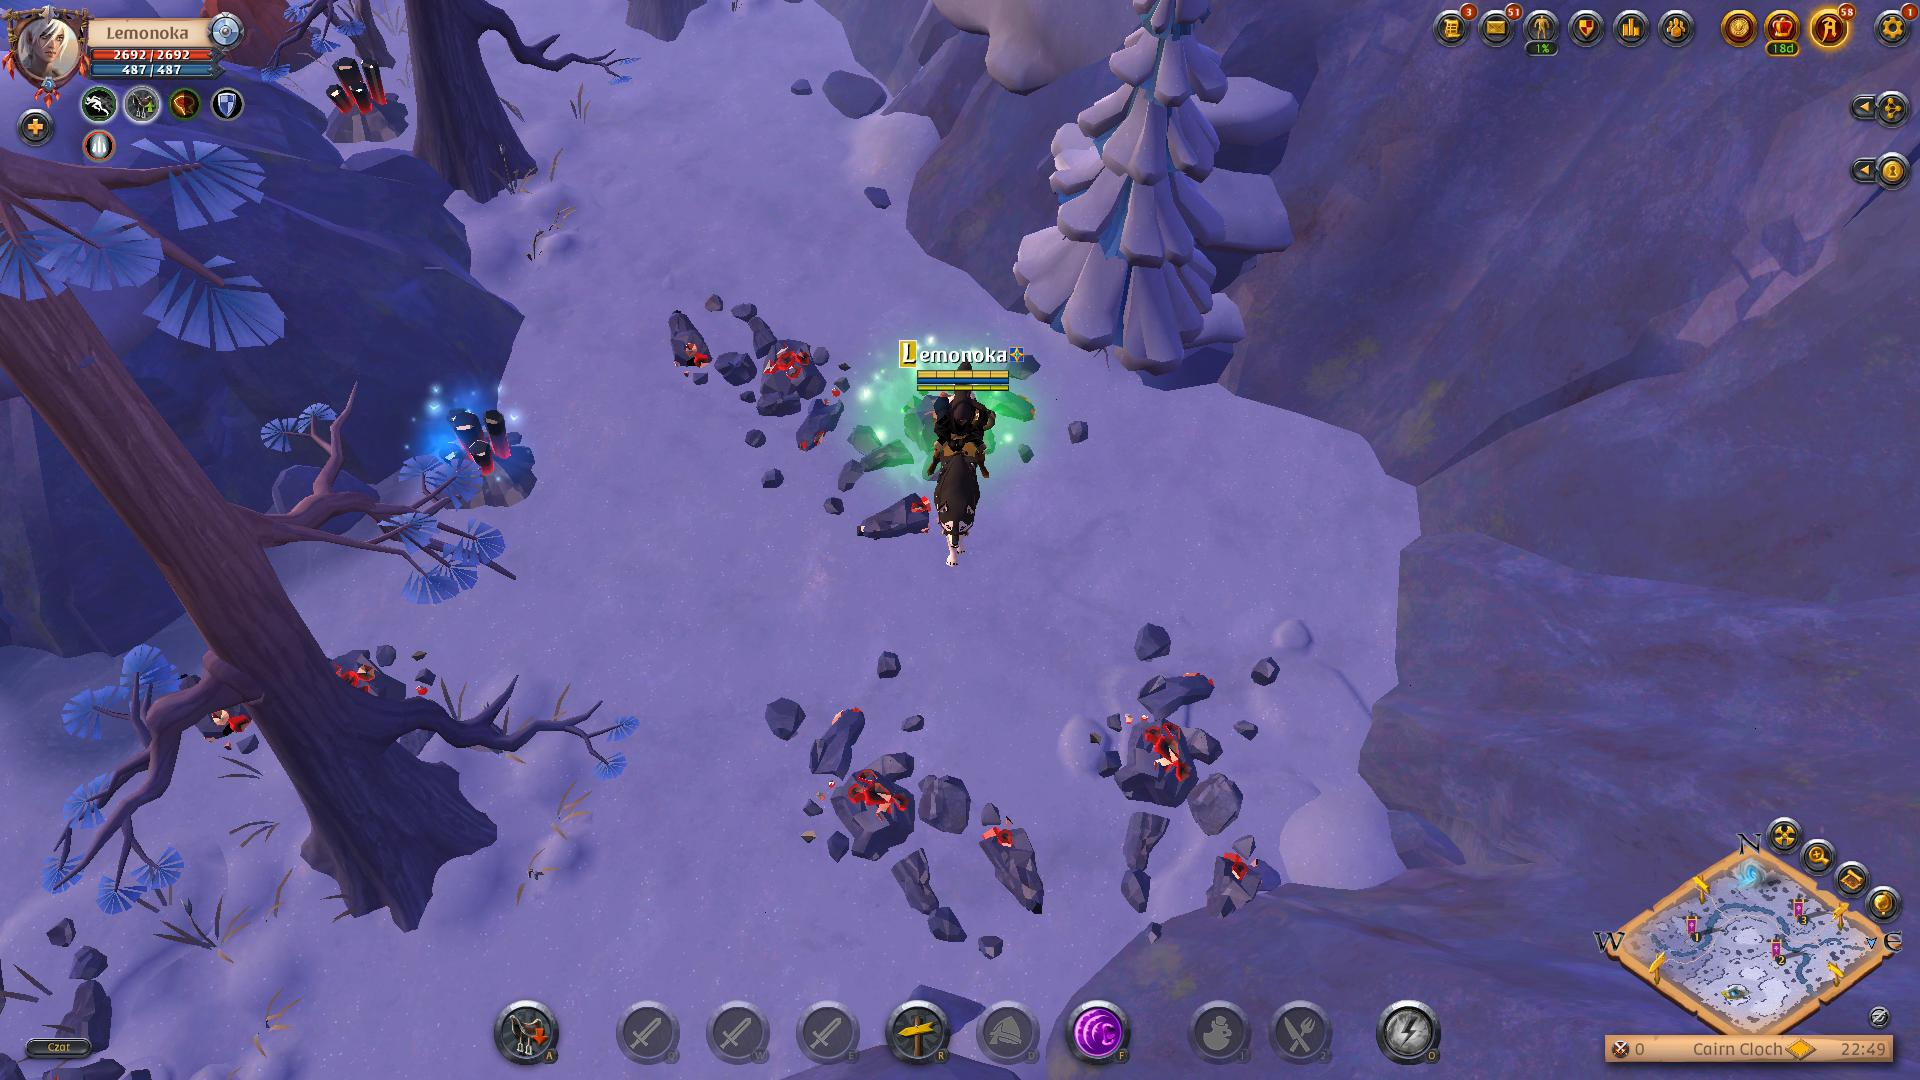ore tier 5: (418, 400, 547, 510), (314, 53, 406, 144)
